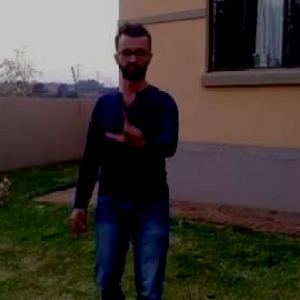land_hand: (104, 98, 152, 160)
